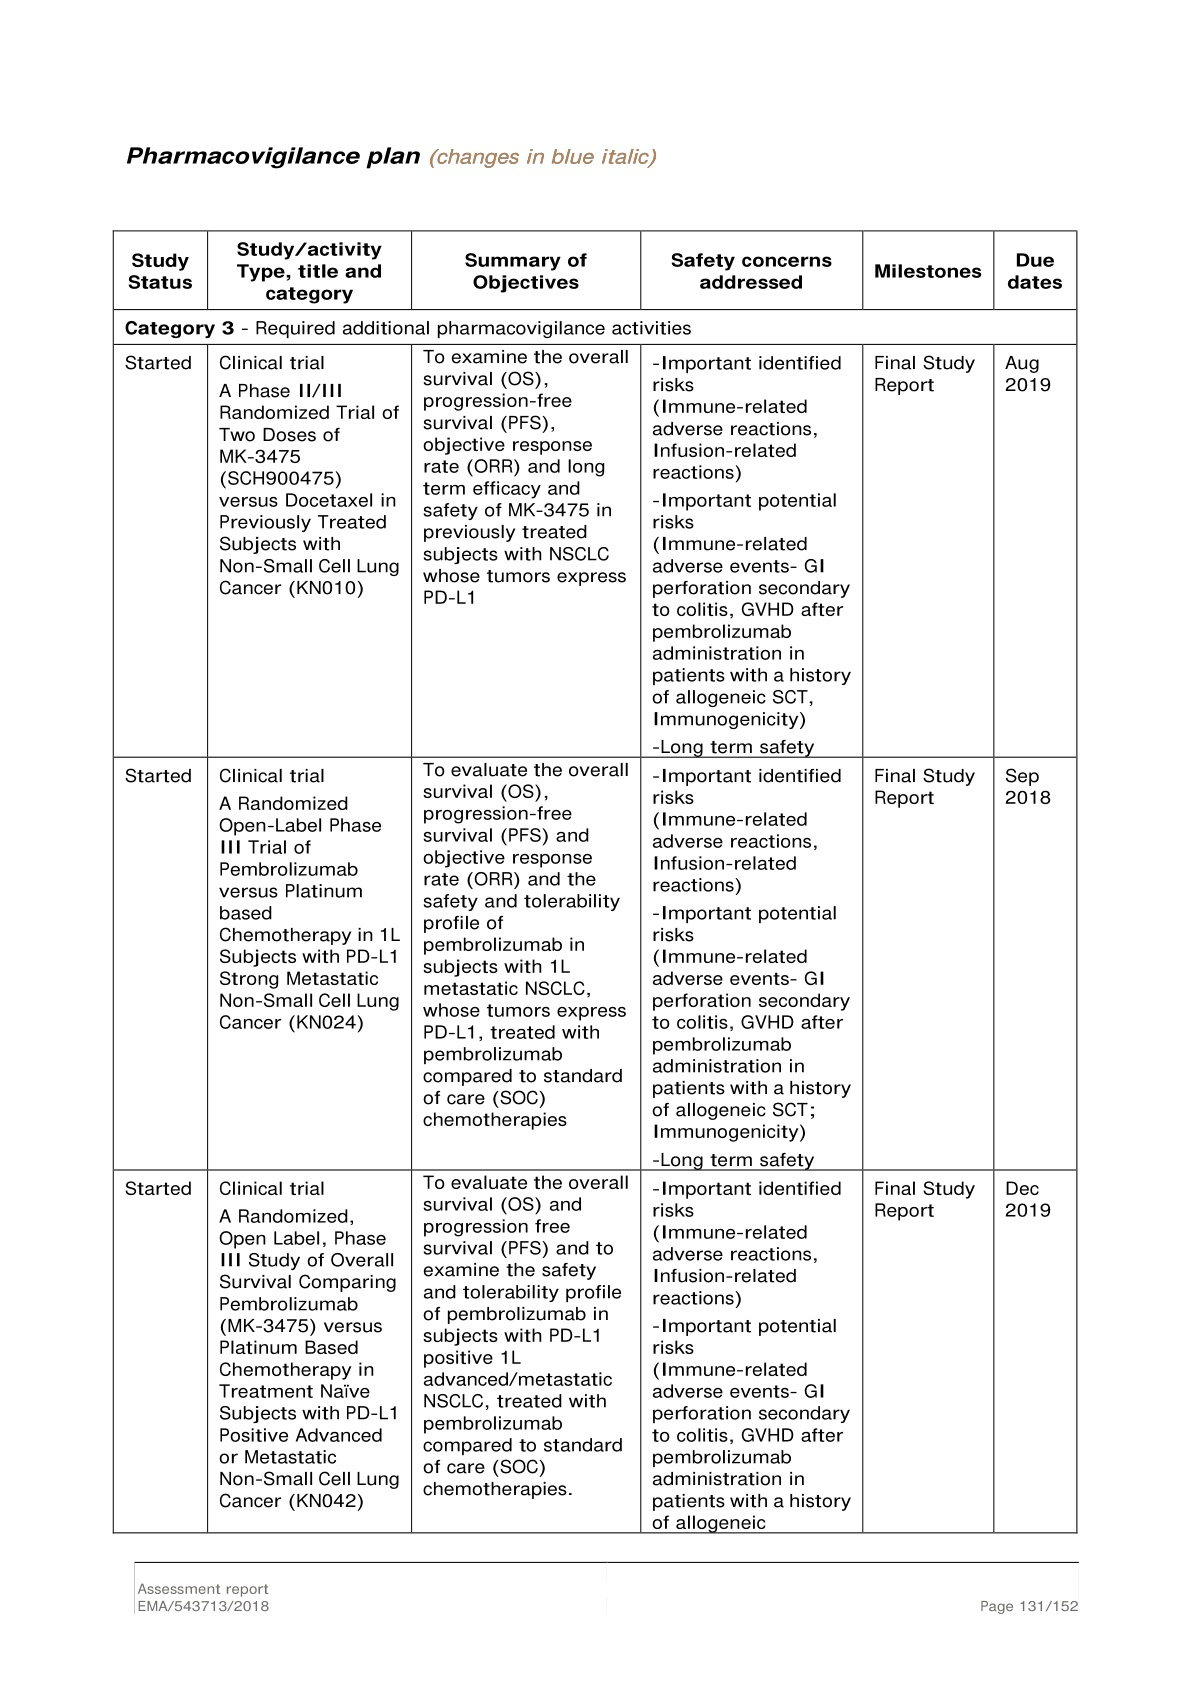merged_cells: (112, 229, 1079, 1535)
